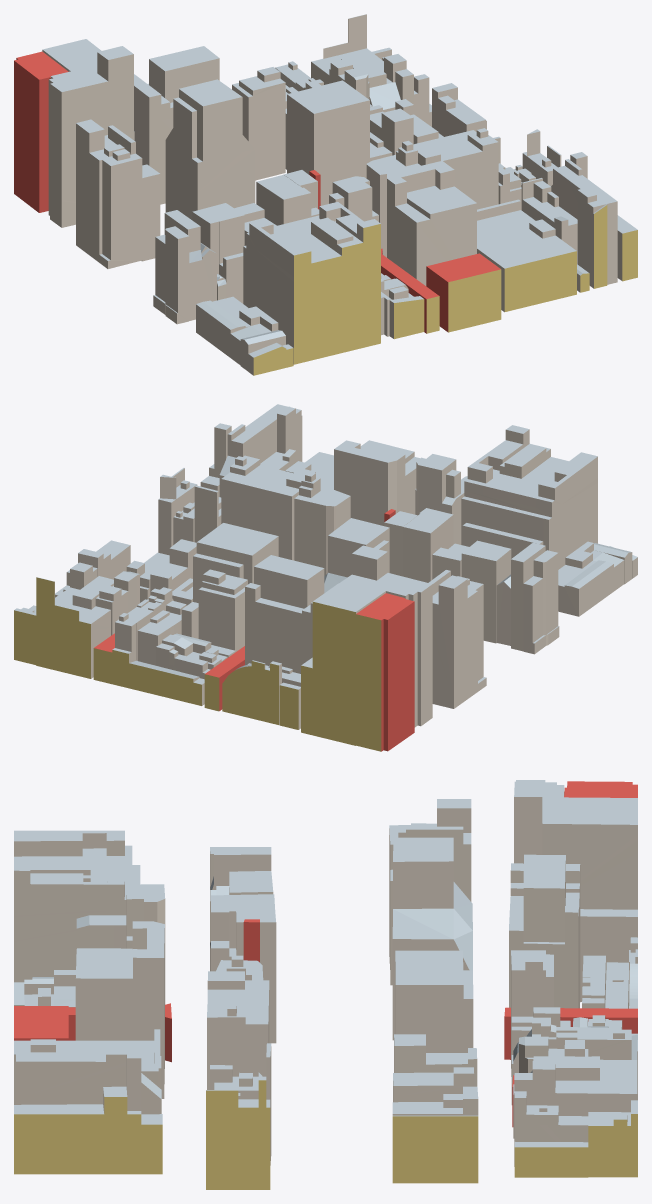
The model's file is dotonbori-study.glb.
3 views of the same model, one above another, from view 1: azimuth 30°, elevation 25°; view 2: azimuth 150°, elevation 25°; view 3: azimuth 270°, elevation 25° (orthographic). The views are drawn at different scales.
Visible parts, largest first — view 1: B066 study bldg_20a34d49-7e67-48bc-a3f4-12e5d8d8c5e1, B034 study bldg_6b39f217-6938-46f4-be4f-b63dadaf6e73, B009 study bldg_f7b7d534-49ca-4a79-b03a-08128ff697c0, B036 study bldg_e95a0f5f-11e1-46f8-b5da-37619d297fc4, B055 study bldg_081a1c94-4b22-4245-b41d-bce24cdd94d1, B065 study bldg_94780c64-d2d7-4e0b-b465-93a3429e6533, B031 study bldg_20d649b2-8ed9-4907-8d04-ad66a6952df4, B023 study bldg_ee83e0d9-4ba0-4a72-bec8-c77447ef2a8e, B011 study bldg_d2d3b308-6155-4ce2-ba9f-588e8c873fb1, B063 study bldg_010ce473-cf92-496b-8905-0f16a250ed1a, B069 study bldg_c657204f-1a56-4972-aba9-70ac9edc3226, B025 study bldg_992fac86-aa37-4398-a10e-6850c9cac9f9 (+28 smaller); view 2: B066 study bldg_20a34d49-7e67-48bc-a3f4-12e5d8d8c5e1, B009 study bldg_f7b7d534-49ca-4a79-b03a-08128ff697c0, B011 study bldg_d2d3b308-6155-4ce2-ba9f-588e8c873fb1, B023 study bldg_ee83e0d9-4ba0-4a72-bec8-c77447ef2a8e, B036 study bldg_e95a0f5f-11e1-46f8-b5da-37619d297fc4, B013 study bldg_85c14406-5eae-4678-a80b-fa9cc1f14dcc, B055 study bldg_081a1c94-4b22-4245-b41d-bce24cdd94d1, B049 study bldg_855dffaa-1263-4a5f-bd07-8ed04eded429, B046 study bldg_bc4a46b3-c8b8-4921-b928-b880430f9d0a, B031 study bldg_20d649b2-8ed9-4907-8d04-ad66a6952df4, B059 study bldg_83ec56aa-2338-4b9e-b1e3-c0dd4a1d1ca3, B025 study bldg_992fac86-aa37-4398-a10e-6850c9cac9f9 (+31 smaller); view 3: B009 study bldg_f7b7d534-49ca-4a79-b03a-08128ff697c0, B066 study bldg_20a34d49-7e67-48bc-a3f4-12e5d8d8c5e1, B061 study bldg_21552a83-46b7-4eea-a049-9fe29dbd3cb9, B055 study bldg_081a1c94-4b22-4245-b41d-bce24cdd94d1, B034 study bldg_6b39f217-6938-46f4-be4f-b63dadaf6e73, B023 study bldg_ee83e0d9-4ba0-4a72-bec8-c77447ef2a8e, B031 study bldg_20d649b2-8ed9-4907-8d04-ad66a6952df4, B063 study bldg_010ce473-cf92-496b-8905-0f16a250ed1a, B050 study bldg_8cee6021-11a5-4653-8418-f12e6173b4cc, B013 study bldg_85c14406-5eae-4678-a80b-fa9cc1f14dcc, B049 study bldg_855dffaa-1263-4a5f-bd07-8ed04eded429, B028 study bldg_36dfa3b9-6bbd-4d27-9567-629b27f1fbf4 (+29 smaller).
Part boxes in pixels (bbox=[...]): B066 study bldg_20a34d49-7e67-48bc-a3f4-12e5d8d8c5e1: bbox=[243, 202, 380, 364]; B034 study bldg_6b39f217-6938-46f4-be4f-b63dadaf6e73: bbox=[165, 79, 255, 219]; B009 study bldg_f7b7d534-49ca-4a79-b03a-08128ff697c0: bbox=[42, 39, 134, 227]; B036 study bldg_e95a0f5f-11e1-46f8-b5da-37619d297fc4: bbox=[76, 119, 142, 268]; B055 study bldg_081a1c94-4b22-4245-b41d-bce24cdd94d1: bbox=[387, 161, 476, 285]; B065 study bldg_94780c64-d2d7-4e0b-b465-93a3429e6533: bbox=[477, 199, 576, 312]; B031 study bldg_20d649b2-8ed9-4907-8d04-ad66a6952df4: bbox=[287, 80, 369, 205]; B023 study bldg_ee83e0d9-4ba0-4a72-bec8-c77447ef2a8e: bbox=[134, 46, 219, 204]; B011 study bldg_d2d3b308-6155-4ce2-ba9f-588e8c873fb1: bbox=[14, 51, 68, 212]; B063 study bldg_010ce473-cf92-496b-8905-0f16a250ed1a: bbox=[551, 159, 617, 288]; B069 study bldg_c657204f-1a56-4972-aba9-70ac9edc3226: bbox=[426, 253, 501, 332]; B025 study bldg_992fac86-aa37-4398-a10e-6850c9cac9f9: bbox=[232, 67, 285, 180]; B066 study bldg_20a34d49-7e67-48bc-a3f4-12e5d8d8c5e1: bbox=[461, 425, 597, 569]; B009 study bldg_f7b7d534-49ca-4a79-b03a-08128ff697c0: bbox=[301, 545, 432, 745]; B011 study bldg_d2d3b308-6155-4ce2-ba9f-588e8c873fb1: bbox=[356, 593, 414, 751]; B023 study bldg_ee83e0d9-4ba0-4a72-bec8-c77447ef2a8e: bbox=[245, 555, 338, 673]; B036 study bldg_e95a0f5f-11e1-46f8-b5da-37619d297fc4: bbox=[428, 570, 486, 708]; B013 study bldg_85c14406-5eae-4678-a80b-fa9cc1f14dcc: bbox=[36, 562, 113, 678]; B055 study bldg_081a1c94-4b22-4245-b41d-bce24cdd94d1: bbox=[334, 440, 419, 525]; B049 study bldg_855dffaa-1263-4a5f-bd07-8ed04eded429: bbox=[221, 455, 315, 560]; B046 study bldg_bc4a46b3-c8b8-4921-b928-b880430f9d0a: bbox=[294, 471, 350, 575]; B031 study bldg_20d649b2-8ed9-4907-8d04-ad66a6952df4: bbox=[193, 523, 278, 602]; B059 study bldg_83ec56aa-2338-4b9e-b1e3-c0dd4a1d1ca3: bbox=[558, 541, 624, 616]; B025 study bldg_992fac86-aa37-4398-a10e-6850c9cac9f9: bbox=[198, 569, 247, 651]; B009 study bldg_f7b7d534-49ca-4a79-b03a-08128ff697c0: bbox=[514, 780, 637, 1001]; B066 study bldg_20a34d49-7e67-48bc-a3f4-12e5d8d8c5e1: bbox=[14, 830, 140, 982]; B061 study bldg_21552a83-46b7-4eea-a049-9fe29dbd3cb9: bbox=[14, 1051, 162, 1174]; B055 study bldg_081a1c94-4b22-4245-b41d-bce24cdd94d1: bbox=[75, 921, 164, 1098]; B034 study bldg_6b39f217-6938-46f4-be4f-b63dadaf6e73: bbox=[392, 837, 472, 1040]; B023 study bldg_ee83e0d9-4ba0-4a72-bec8-c77447ef2a8e: bbox=[509, 854, 580, 1008]; B031 study bldg_20d649b2-8ed9-4907-8d04-ad66a6952df4: bbox=[395, 950, 473, 1052]; B063 study bldg_010ce473-cf92-496b-8905-0f16a250ed1a: bbox=[14, 1039, 161, 1114]; B050 study bldg_8cee6021-11a5-4653-8418-f12e6173b4cc: bbox=[206, 1072, 270, 1189]; B013 study bldg_85c14406-5eae-4678-a80b-fa9cc1f14dcc: bbox=[514, 1040, 637, 1116]; B049 study bldg_855dffaa-1263-4a5f-bd07-8ed04eded429: bbox=[207, 971, 269, 1089]; B028 study bldg_36dfa3b9-6bbd-4d27-9567-629b27f1fbf4: bbox=[392, 1115, 478, 1183].
Size of the model in its own units: 143 by 58.33 by 160.
